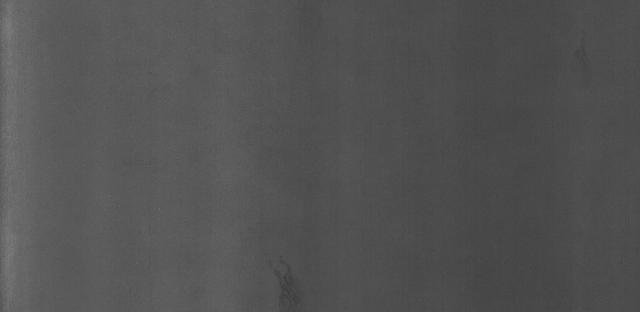water_spot: (262, 246, 312, 310)
